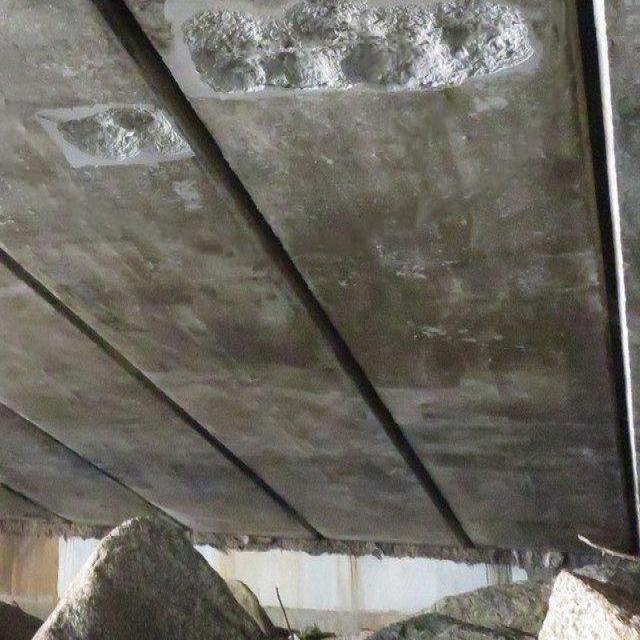concrete spalling: (181, 0, 536, 95), (54, 106, 193, 158)
